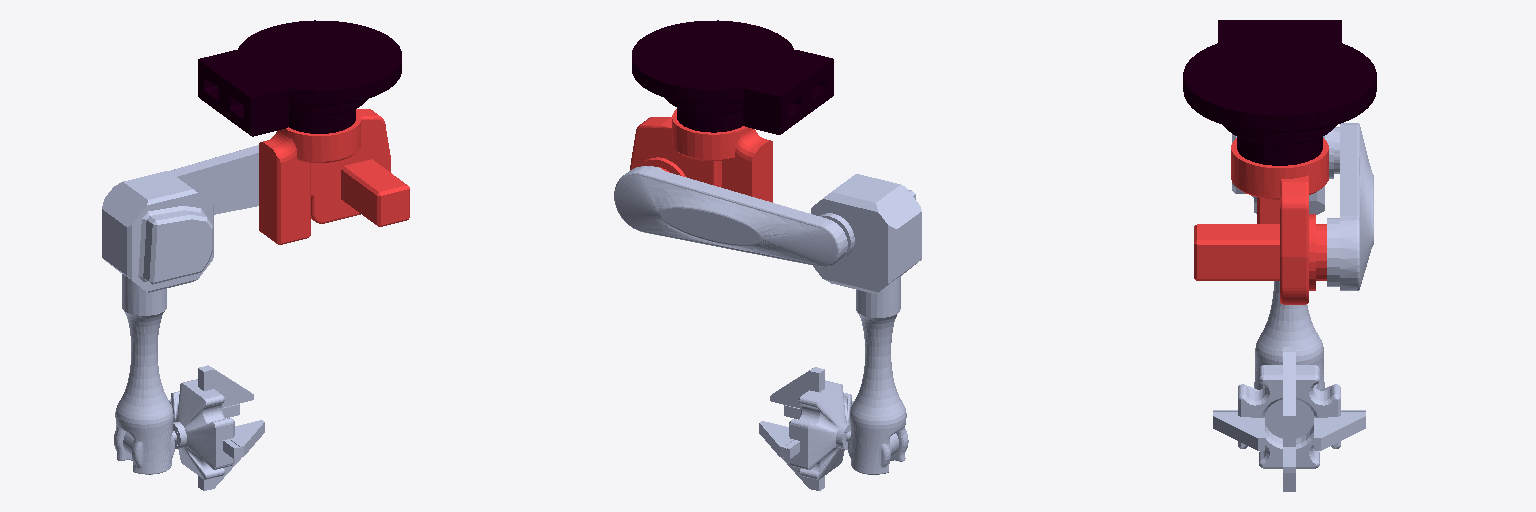
The robot description file, URDF, robot "my_robot_urdf":
<?xml version="1.0" encoding="utf-8" ?>
<!-- This URDF was automatically created by SolidWorks to URDF Exporter! Originally created by [author] ([email redacted]) 
     Commit Version: 1.6.0-4-g7f85cfe  Build Version: 1.6.7995.38578
     For more information, please see http://wiki.ros.org/sw_urdf_exporter -->
<robot name="my_robot_urdf">
    <link name="world_link" />
    <joint name="base_joint" type="fixed">
        <origin xyz="0 0 0" rpy="1.5708 0 0" />
        <!-- Rotate 90 degrees around the Z-axis -->
        <parent link="world_link" />
        <child link="base_link" />
    </joint>
    <link name="base_link">
        <inertial>
            <origin xyz="-0.05930869488714 0 0.0776653157730273" rpy="0 0 0" />
            <mass value="33.891578448587" />
            <inertia ixx="0.562042604088221" ixy="0" ixz="0.00403961419511077" iyy="0.970694427805805" iyz="0" izz="1.29713482615658" />
        </inertial>
        <visual>
            <origin xyz="0 0 0" rpy="0 0 0" />
            <geometry>
                <mesh filename="package://my_robot_urdf/meshes/base_link.STL" />
            </geometry>
            <material name="">
                <color rgba="0.152941176470588 0 0.117647058823529 1" />
            </material>
        </visual>
        <collision>
            <origin xyz="0 0 0" rpy="0 0 0" />
            <geometry>
                <mesh filename="package://my_robot_urdf/meshes/base_link.STL" />
            </geometry>
        </collision>
    </link>
    <link name="arm_link_1">
        <inertial>
            <origin xyz="0.0416589398280025 0 0.19712083516126" rpy="0 0 0" />
            <mass value="26.7048266497369" />
            <inertia ixx="0.495499615132855" ixy="-0.0102760504758245" ixz="-0.0600935399650257" iyy="0.766768677077223" iyz="-0.0115358881770517" izz="0.604967931690783" />
        </inertial>
        <visual>
            <origin xyz="0 0 0" rpy="0 0 0" />
            <geometry>
                <mesh filename="package://my_robot_urdf/meshes/arm_link_1.STL" />
            </geometry>
            <material name="">
                <color rgba="1 0.309803921568627 0.309803921568627 1" />
            </material>
        </visual>
        <collision>
            <origin xyz="0 0 0" rpy="0 0 0" />
            <geometry>
                <mesh filename="package://my_robot_urdf/meshes/arm_link_1.STL" />
            </geometry>
        </collision>
    </link>
    <joint name="arm_joint_1" type="revolute">
        <origin xyz="0 -0.234 0" rpy="1.5708 0 0" />
        <parent link="base_link" />
        <child link="arm_link_1" />
        <axis xyz="0 0 1" />
        <limit lower="-3.1416" upper="3.1416" effort="0" velocity="0" />
    </joint>
    <link name="arm_link_2">
        <inertial>
            <origin xyz="0.000258724363916829 0.0707589768311214 -0.290203503422467" rpy="0 0 0" />
            <mass value="14.3270690802686" />
            <inertia ixx="0.848873613210201" ixy="-0.000175299197197552" ixz="4.64678003354567E-05" iyy="0.87480377814942" iyz="0.0137202067906075" izz="0.0504590836189902" />
        </inertial>
        <visual>
            <origin xyz="0 0 0" rpy="0 0 0" />
            <geometry>
                <mesh filename="package://my_robot_urdf/meshes/arm_link_2.STL" />
            </geometry>
            <material name="">
                <color rgba="0.792156862745098 0.819607843137255 0.933333333333333 1" />
            </material>
        </visual>
        <collision>
            <origin xyz="0 0 0" rpy="0 0 0" />
            <geometry>
                <mesh filename="package://my_robot_urdf/meshes/arm_link_2.STL" />
            </geometry>
        </collision>
    </link>
    <joint name="arm_joint_2" type="revolute">
        <origin xyz="0.15 -0.1375 0.265" rpy="0 -1.5708 3.1416" />
        <parent link="arm_link_1" />
        <child link="arm_link_2" />
        <axis xyz="0 1 0" />
        <limit lower="-3.1416" upper="3.1416" effort="0" velocity="0" />
    </joint>
    <link name="arm_link_3">
        <inertial>
            <origin xyz="0.0362614171159604 -0.123132908024542 -0.0664637155357432" rpy="0 0 0" />
            <mass value="27.1450417424437" />
            <inertia ixx="0.344868303293538" ixy="-0.00338242702861573" ixz="0.0211648441841247" iyy="0.473964503565446" iyz="-0.00675660536457725" izz="0.420912669748457" />
        </inertial>
        <visual>
            <origin xyz="0 0 0" rpy="0 0 0" />
            <geometry>
                <mesh filename="package://my_robot_urdf/meshes/arm_link_3.STL" />
            </geometry>
            <material name="">
                <color rgba="0.792156862745098 0.819607843137255 0.933333333333333 1" />
            </material>
        </visual>
        <collision>
            <origin xyz="0 0 0" rpy="0 0 0" />
            <geometry>
                <mesh filename="package://my_robot_urdf/meshes/arm_link_3.STL" />
            </geometry>
        </collision>
    </link>
    <joint name="arm_joint_3" type="continuous">
        <origin xyz="0 0 -0.7" rpy="0 0 0" />
        <parent link="arm_link_2" />
        <child link="arm_link_3" />
        <axis xyz="0 1 0" />
        <limit lower="-3.1416" upper="3.1416" effort="0" velocity="0" />
    </joint>
    <link name="arm_link_4">
        <inertial>
            <origin xyz="0.338893744219759 0 0" rpy="0 0 0" />
            <mass value="7.96664349020365" />
            <inertia ixx="0.0300827685994122" ixy="-3.48765154258439E-07" ixz="-4.33220175841054E-07" iyy="0.215976713293833" iyz="0.000166072999280485" izz="0.223048843574734" />
        </inertial>
        <visual>
            <origin xyz="0 0 0" rpy="0 0 0" />
            <geometry>
                <mesh filename="package://my_robot_urdf/meshes/arm_link_4.STL" />
            </geometry>
            <material name="">
                <color rgba="0.792156862745098 0.819607843137255 0.933333333333333 1" />
            </material>
        </visual>
        <collision>
            <origin xyz="0 0 0" rpy="0 0 0" />
            <geometry>
                <mesh filename="package://my_robot_urdf/meshes/arm_link_4.STL" />
            </geometry>
        </collision>
    </link>
    <joint name="arm_joint_4" type="revolute">
        <origin xyz="0.29 -0.11 -0.115" rpy="3.1416 0 0" />
        <parent link="arm_link_3" />
        <child link="arm_link_4" />
        <axis xyz="1 0 0" />
        <limit lower="-3.1416" upper="3.1416" effort="0" velocity="0" />
    </joint>
    <link name="arm_link_5">
        <inertial>
            <origin xyz="-0.00224018993807718 0 0" rpy="0 0 0" />
            <mass value="0.961734748124672" />
            <inertia ixx="0.00154678090917305" ixy="0" ixz="0" iyy="0.00165625576362529" iyz="0" izz="0.00143991315628678" />
        </inertial>
        <visual>
            <origin xyz="0 0 0" rpy="0 0 0" />
            <geometry>
                <mesh filename="package://my_robot_urdf/meshes/arm_link_5.STL" />
            </geometry>
            <material name="">
                <color rgba="0.792156862745098 0.819607843137255 0.933333333333333 1" />
            </material>
        </visual>
        <collision>
            <origin xyz="0 0 0" rpy="0 0 0" />
            <geometry>
                <mesh filename="package://my_robot_urdf/meshes/arm_link_5.STL" />
            </geometry>
        </collision>
    </link>
    <joint name="arm_joint_5" type="revolute">
        <origin xyz="0.51 0 0" rpy="3.1416 1.5708 3.1416" />
        <parent link="arm_link_4" />
        <child link="arm_link_5" />
        <axis xyz="0 1 0" />
        <limit lower="-4.7124" upper="1.5708" effort="0" velocity="0" />
    </joint>
    <link name="arm_link_6">
        <inertial>
            <origin xyz="0 0 0.052725963344278" rpy="0 0 0" />
            <mass value="0.288779624800079" />
            <inertia ixx="0.000386925186804297" ixy="0" ixz="0" iyy="0.000386925215104185" iyz="0" izz="0.000212753902483572" />
        </inertial>
        <visual>
            <origin xyz="0 0 0" rpy="0 0 0" />
            <geometry>
                <mesh filename="package://my_robot_urdf/meshes/arm_link_6.STL" />
            </geometry>
            <material name="">
                <color rgba="0.792156862745098 0.819607843137255 0.933333333333333 1" />
            </material>
        </visual>
        <collision>
            <origin xyz="0 0 0" rpy="0 0 0" />
            <geometry>
                <mesh filename="package://my_robot_urdf/meshes/arm_link_6.STL" />
            </geometry>
        </collision>
    </link>
    <joint name="arm_joint_6" type="revolute">
        <origin xyz="0.045 0 0" rpy="0 1.5708 0" />
        <parent link="arm_link_5" />
        <child link="arm_link_6" />
        <axis xyz="0 0 1" />
        <limit lower="-3.1416" upper="3.1416" effort="0" velocity="0" />
    </joint>
    <link name="eef_link">
        <inertial>
            <origin xyz="0 0 -0.0188761945416884" rpy="0 0 0" />
            <mass value="5.46782575492837" />
            <inertia ixx="0.0365076087226209" ixy="0" ixz="0" iyy="0.0365076302641158" iyz="0" izz="0.0627860547898383" />
        </inertial>
        <visual>
            <origin xyz="0 0 0" rpy="0 0 0" />
            <geometry>
                <mesh filename="package://my_robot_urdf/meshes/eef_link.STL" />
            </geometry>
            <material name="">
                <color rgba="0.792156862745098 0.819607843137255 0.933333333333333 1" />
            </material>
        </visual>
        <collision>
            <origin xyz="0 0 0" rpy="0 0 0" />
            <geometry>
                <mesh filename="package://my_robot_urdf/meshes/eef_link.STL" />
            </geometry>
        </collision>
    </link>
    <joint name="eef_link_fixed" type="fixed">
        <origin xyz="0 0 0.145" rpy="3.1416 0 3.1416" />
        <parent link="arm_link_6" />
        <child link="eef_link" />
        <axis xyz="0 0 0" />
    </joint>
    <link name="eef_jaw_1">
        <inertial>
            <origin xyz="0.0869730343447335 -0.02 0.0799489474646907" rpy="0 0 0" />
            <mass value="0.672155087926634" />
            <inertia ixx="0.00170709281582639" ixy="0" ixz="-0.000828153130362926" iyy="0.00264620439405273" iyz="0" izz="0.00111534333500677" />
        </inertial>
        <visual>
            <origin xyz="0 0 0" rpy="0 0 0" />
            <geometry>
                <mesh filename="package://my_robot_urdf/meshes/eef_jaw_1.STL" />
            </geometry>
            <material name="">
                <color rgba="0.792156862745098 0.819607843137255 0.933333333333333 1" />
            </material>
        </visual>
        <collision>
            <origin xyz="0 0 0" rpy="0 0 0" />
            <geometry>
                <mesh filename="package://my_robot_urdf/meshes/eef_jaw_1.STL" />
            </geometry>
        </collision>
    </link>
    <joint name="eef_jaw_1_joint_fixed" type="fixed">
        <origin xyz="-0.22228 -0.02 -0.03" rpy="3.1416 0 0" />
        <parent link="eef_link" />
        <child link="eef_jaw_1" />
        <axis xyz="0 0 0" />
    </joint>
    <link name="eef_jaw_2">
        <inertial>
            <origin xyz="0.0869730343447341 0.02 -0.0799489474646903" rpy="0 0 0" />
            <mass value="0.672155087926635" />
            <inertia ixx="0.00170709281582639" ixy="0" ixz="0.000828153130362932" iyy="0.00264620439405273" iyz="0" izz="0.00111534333500678" />
        </inertial>
        <visual>
            <origin xyz="0 0 0" rpy="0 0 0" />
            <geometry>
                <mesh filename="package://my_robot_urdf/meshes/eef_jaw_2.STL" />
            </geometry>
            <material name="">
                <color rgba="0.792156862745098 0.819607843137255 0.933333333333333 1" />
            </material>
        </visual>
        <collision>
            <origin xyz="0 0 0" rpy="0 0 0" />
            <geometry>
                <mesh filename="package://my_robot_urdf/meshes/eef_jaw_2.STL" />
            </geometry>
        </collision>
    </link>
    <joint name="eef_jaw_2_joint_fixed" type="fixed">
        <origin xyz="0.22228 0.02 -0.03" rpy="0 0 3.1416" />
        <parent link="eef_link" />
        <child link="eef_jaw_2" />
        <axis xyz="0 0 0" />
    </joint>
    <link name="eef_jaw_3">
        <inertial>
            <origin xyz="0.0869730343447339 0.0199999999999998 -0.0799489474646904" rpy="0 0 0" />
            <mass value="0.672155087926635" />
            <inertia ixx="0.00170709281582639" ixy="1.22228661725192E-18" ixz="0.00082815313036293" iyy="0.00264620439405273" iyz="-2.65326222347392E-18" izz="0.00111534333500678" />
        </inertial>
        <visual>
            <origin xyz="0 0 0" rpy="0 0 0" />
            <geometry>
                <mesh filename="package://my_robot_urdf/meshes/eef_jaw_3.STL" />
            </geometry>
            <material name="">
                <color rgba="0.792156862745098 0.819607843137255 0.933333333333333 1" />
            </material>
        </visual>
        <collision>
            <origin xyz="0 0 0" rpy="0 0 0" />
            <geometry>
                <mesh filename="package://my_robot_urdf/meshes/eef_jaw_3.STL" />
            </geometry>
        </collision>
    </link>
    <joint name="eef_jaw_3_joint_fixed" type="fixed">
        <origin xyz="0.02 -0.22228 -0.03" rpy="0 0 1.5708" />
        <parent link="eef_link" />
        <child link="eef_jaw_3" />
        <axis xyz="0 0 0" />
    </joint>
    <link name="eef_jaw_4">
        <inertial>
            <origin xyz="0.0869730343447339 0.0200000000000002 -0.0799489474646904" rpy="0 0 0" />
            <mass value="0.672155087926635" />
            <inertia ixx="0.00170709281582639" ixy="-7.19987309785431E-19" ixz="0.00082815313036293" iyy="0.00264620439405273" iyz="3.18786093986215E-18" izz="0.00111534333500678" />
        </inertial>
        <visual>
            <origin xyz="0 0 0" rpy="0 0 0" />
            <geometry>
                <mesh filename="package://my_robot_urdf/meshes/eef_jaw_4.STL" />
            </geometry>
            <material name="">
                <color rgba="0.792156862745098 0.819607843137255 0.933333333333333 1" />
            </material>
        </visual>
        <collision>
            <origin xyz="0 0 0" rpy="0 0 0" />
            <geometry>
                <mesh filename="package://my_robot_urdf/meshes/eef_jaw_4.STL" />
            </geometry>
        </collision>
    </link>
    <joint name="eef_jaw_4_joint_fixed" type="fixed">
        <origin xyz="-0.0200000000000002 0.222284161474006 -0.0299999999999999" rpy="0 0 -1.5707963267949" />
        <parent link="eef_link" />
        <child link="eef_jaw_4" />
        <axis xyz="0 0 0" />
    </joint>
    <transmission name="trans_arm_joint_1">
        <type>transmission_interface/SimpleTransmission</type>
        <joint name="arm_joint_1">
            <hardwareInterface>hardware_interface/EffortJointInterface</hardwareInterface>
        </joint>
        <actuator name="arm_joint_1_motor">
            <hardwareInterface>hardware_interface/EffortJointInterface</hardwareInterface>
            <mechanicalReduction>1</mechanicalReduction>
        </actuator>
    </transmission>
    <transmission name="trans_arm_joint_2">
        <type>transmission_interface/SimpleTransmission</type>
        <joint name="arm_joint_2">
            <hardwareInterface>hardware_interface/EffortJointInterface</hardwareInterface>
        </joint>
        <actuator name="arm_joint_2_motor">
            <hardwareInterface>hardware_interface/EffortJointInterface</hardwareInterface>
            <mechanicalReduction>1</mechanicalReduction>
        </actuator>
    </transmission>
    <transmission name="trans_arm_joint_3">
        <type>transmission_interface/SimpleTransmission</type>
        <joint name="arm_joint_3">
            <hardwareInterface>hardware_interface/EffortJointInterface</hardwareInterface>
        </joint>
        <actuator name="arm_joint_3_motor">
            <hardwareInterface>hardware_interface/EffortJointInterface</hardwareInterface>
            <mechanicalReduction>1</mechanicalReduction>
        </actuator>
    </transmission>
    <transmission name="trans_arm_joint_4">
        <type>transmission_interface/SimpleTransmission</type>
        <joint name="arm_joint_4">
            <hardwareInterface>hardware_interface/EffortJointInterface</hardwareInterface>
        </joint>
        <actuator name="arm_joint_4_motor">
            <hardwareInterface>hardware_interface/EffortJointInterface</hardwareInterface>
            <mechanicalReduction>1</mechanicalReduction>
        </actuator>
    </transmission>
    <transmission name="trans_arm_joint_5">
        <type>transmission_interface/SimpleTransmission</type>
        <joint name="arm_joint_5">
            <hardwareInterface>hardware_interface/EffortJointInterface</hardwareInterface>
        </joint>
        <actuator name="arm_joint_5_motor">
            <hardwareInterface>hardware_interface/EffortJointInterface</hardwareInterface>
            <mechanicalReduction>1</mechanicalReduction>
        </actuator>
    </transmission>
    <transmission name="trans_arm_joint_6">
        <type>transmission_interface/SimpleTransmission</type>
        <joint name="arm_joint_6">
            <hardwareInterface>hardware_interface/EffortJointInterface</hardwareInterface>
        </joint>
        <actuator name="arm_joint_6_motor">
            <hardwareInterface>hardware_interface/EffortJointInterface</hardwareInterface>
            <mechanicalReduction>1</mechanicalReduction>
        </actuator>
    </transmission>
    <gazebo>
        <plugin name="gazebo_ros_control" filename="libgazebo_ros_control.so">
            <robotNamespace>/</robotNamespace>
        </plugin>
    </gazebo>
</robot>

--- Render facts (derived) ---
Views: 3 orthographic renders of the robot side by side, from view 1: azimuth 30°, elevation 25°; view 2: azimuth 150°, elevation 25°; view 3: azimuth 270°, elevation 25°.
Model my_robot_urdf with 13 links and 12 joints (5 revolute, 1 continuous, 6 fixed), rooted at world_link, posed every joint at zero.
Links seen in each view (by area): view 1: base_link, arm_link_1, arm_link_3, arm_link_4, eef_link, arm_link_2, eef_jaw_1, eef_jaw_4; view 2: base_link, arm_link_2, arm_link_3, arm_link_1, arm_link_4, eef_link, eef_jaw_1, eef_jaw_3; view 3: base_link, arm_link_1, eef_link, arm_link_2, arm_link_4, eef_jaw_3, eef_jaw_4, arm_link_3, eef_jaw_1, eef_jaw_2.
Link boxes in pixels (x1,y1,x2,y2): base_link: (198,20,401,136); arm_link_1: (259,109,409,244); arm_link_3: (102,171,213,315); arm_link_4: (114,311,174,474); eef_link: (171,379,234,479); arm_link_2: (169,145,258,214); eef_jaw_1: (198,365,253,407); eef_jaw_4: (223,420,264,458); base_link: (632,20,833,134); arm_link_2: (614,166,847,266); arm_link_3: (811,174,921,317); arm_link_1: (630,109,772,202); arm_link_4: (848,309,908,474); eef_link: (789,380,851,479); eef_jaw_1: (770,367,824,408); eef_jaw_3: (759,421,799,458); base_link: (1183,20,1376,165); arm_link_1: (1194,138,1328,304); eef_link: (1238,365,1340,468); arm_link_2: (1327,123,1373,290); arm_link_4: (1254,281,1324,389); eef_jaw_3: (1314,410,1365,450); eef_jaw_4: (1213,410,1264,450); arm_link_3: (1232,127,1339,214); eef_jaw_1: (1283,347,1295,421); eef_jaw_2: (1283,447,1295,491).
Size in the robot's own frame: 1.07 by 0.5597 by 1.52 metres.
12 mesh visuals loaded from 12 distinct referenced files (12 binary STL).
